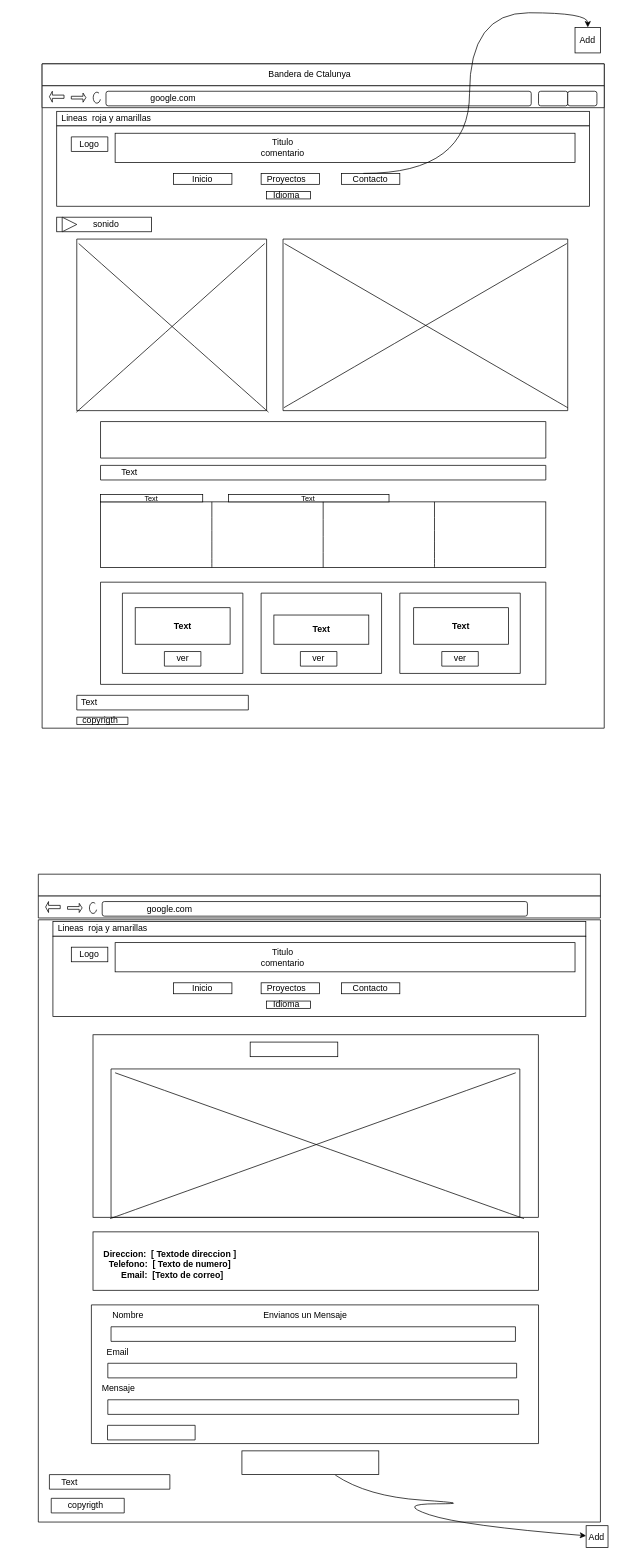
This 621x1561 diagram has some shape labels left out. Here are the shapes that lost their labels. From the top down, the box of each, then its label:
(100, 421, 546, 458): Texto
(249, 1041, 338, 1057): Mapa de ubicacion
(107, 1425, 195, 1440): Enviar Mensaje
(241, 1450, 379, 1475): Volver a pagina principal
